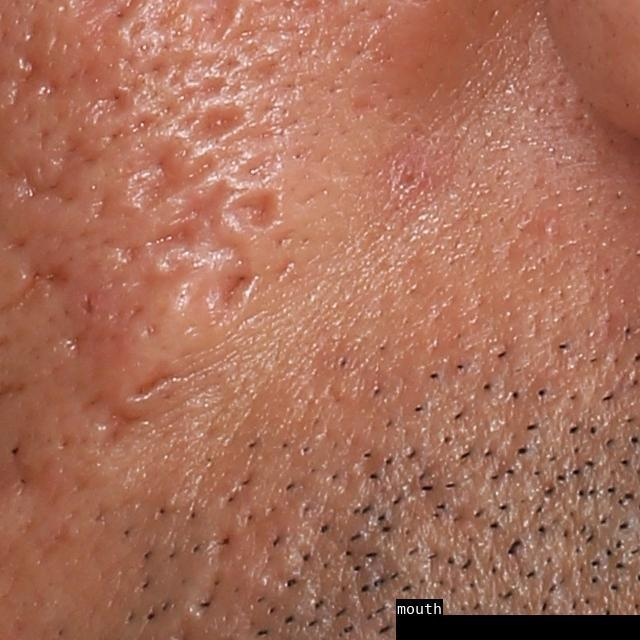atrophic_scar: (111, 134, 222, 219), (144, 181, 256, 264), (4, 123, 94, 206), (227, 185, 299, 244), (124, 358, 214, 405), (181, 102, 248, 146), (210, 262, 252, 325), (93, 413, 154, 456)
